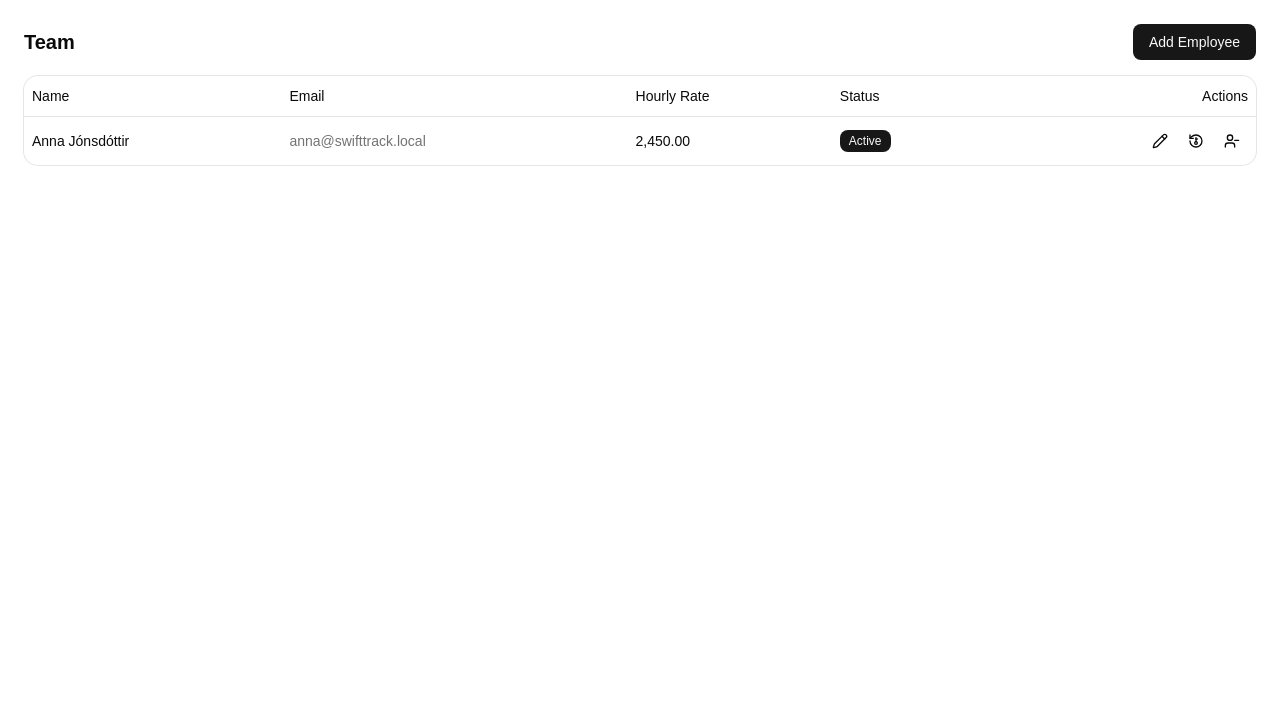
TeamPage — editing an employee › seeds the rate box with the queued raise, not the rate being paid
Step 1. Click the button named "Edit employee" → [1160, 140], box 1144,124 -> 1176,156
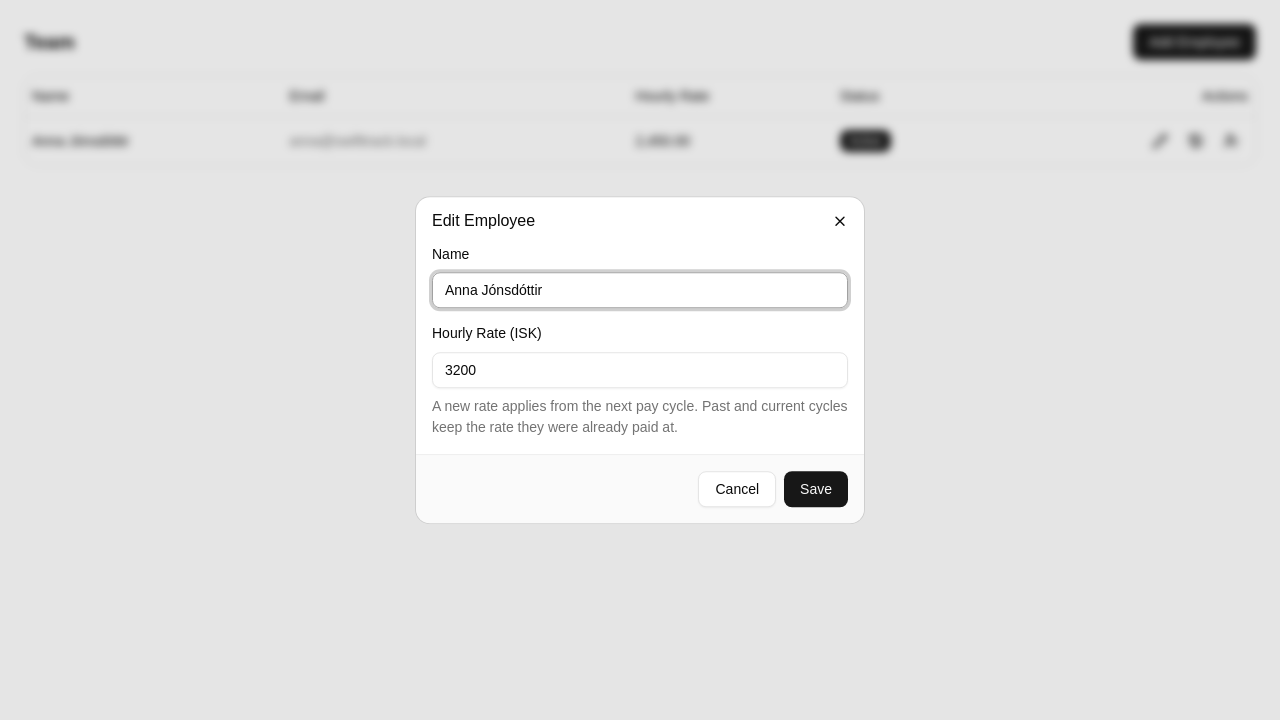
Expected: the number field labelled "Hourly Rate (ISK)" holds "3200", 432,352 -> 848,388
